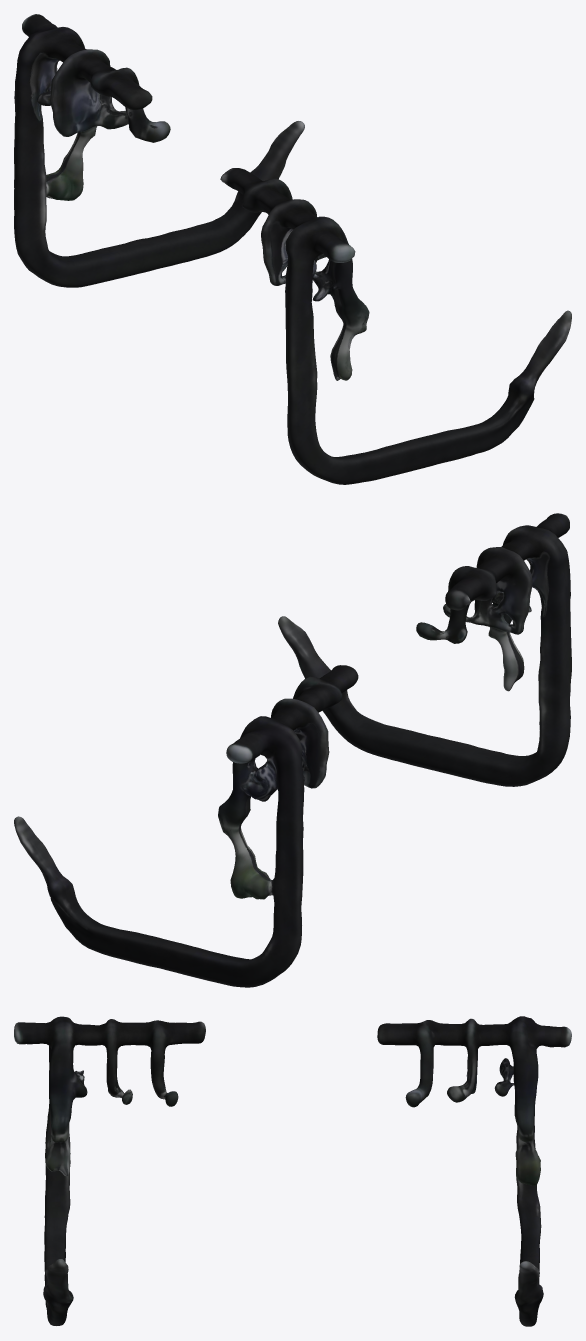
File: f7c752a29e94_Hooks_and_Hangers__.fbx
3 renders of one model, top to bottom at view 1: azimuth 30°, elevation 25°; view 2: azimuth 150°, elevation 25°; view 3: azimuth 270°, elevation 25°, orthographic. The views are drawn at different scales.
Parts seen in each view (by area): view 1: mesh; view 2: mesh; view 3: mesh.
Part boxes in pixels (x1,y1,x2,y2): mesh: (14,14,571,484); mesh: (14,513,571,987); mesh: (14,1016,571,1326).
Bounding box in the file's own units: 52.36 × 46.32 × 99.98.
